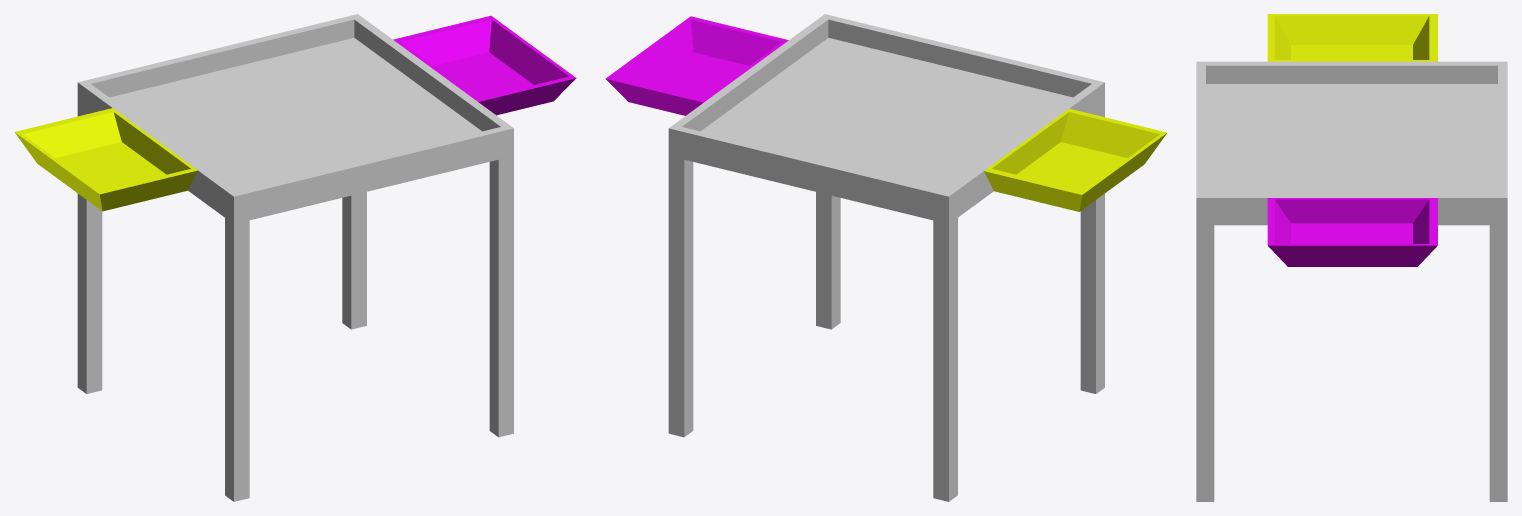
The model's file is cleanuptable.dae.
3 views of the same model, side by side, from view 1: azimuth 30°, elevation 25°; view 2: azimuth 150°, elevation 25°; view 3: azimuth 270°, elevation 25° (orthographic).
Visible parts, largest first — view 1: Cube.001; view 2: Cube.001; view 3: Cube.001.
Boxes of the visible parts, bbox=[...] form: Cube.001: bbox=[14, 14, 576, 501]; Cube.001: bbox=[605, 14, 1167, 501]; Cube.001: bbox=[1196, 14, 1507, 501].
Size of the model in its own units: 1.1 by 0.6254 by 0.6741.
